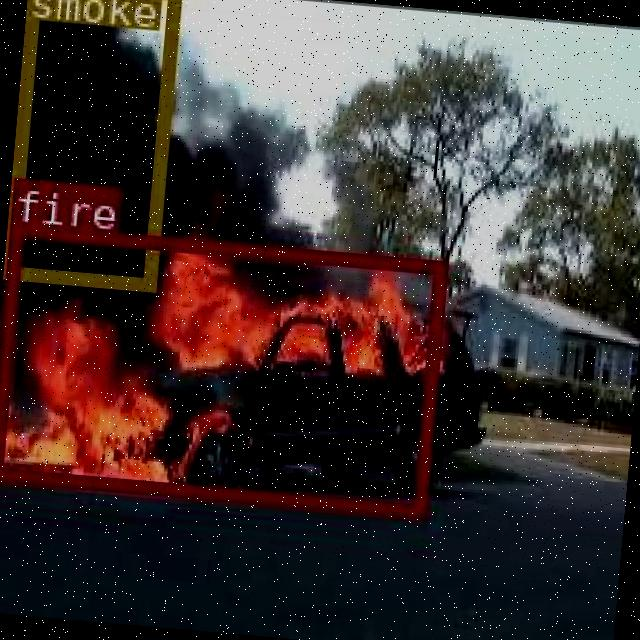fire: (0, 221, 446, 516)
smoke: (2, 0, 177, 287)
